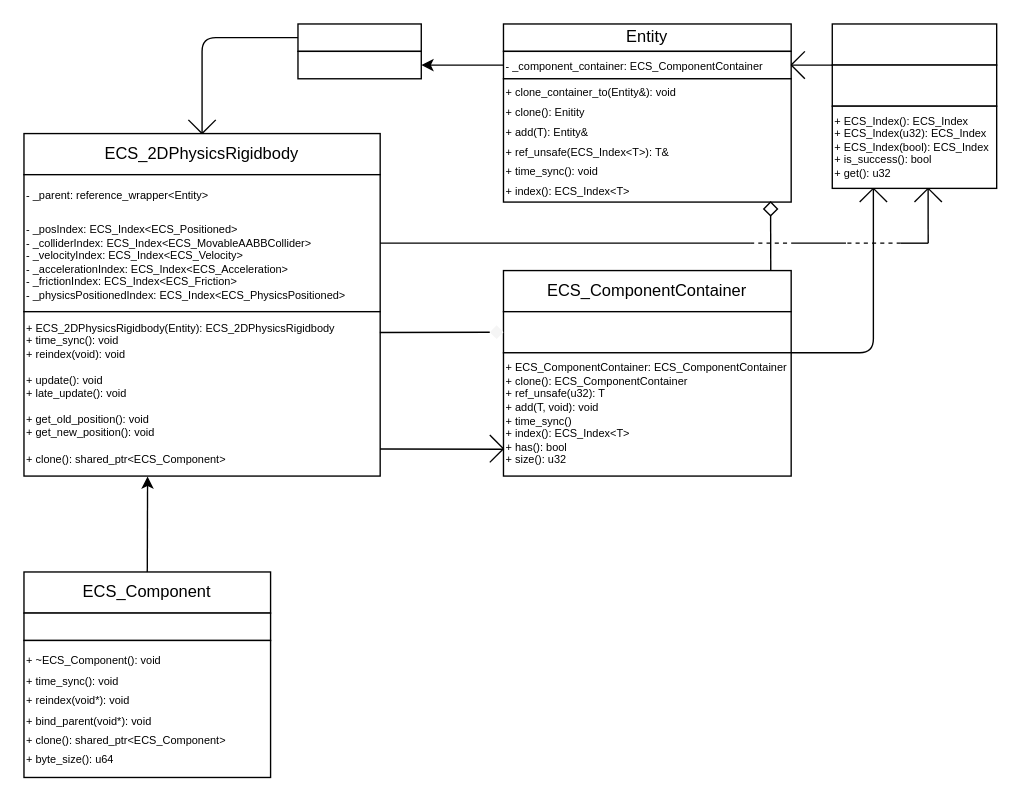
Image size: 1021x801. Some labels were removed from this diagram. Here are the shapes that lost their labels. From the top down, the box of each, then its label:
(297, 23, 421, 51): Player
(831, 23, 997, 65): ECS_Index<T>
(297, 50, 421, 79): + clone(): Player
(831, 64, 997, 106): - _index: u32 - _success: bool
(502, 310, 791, 353): - _components: vector<ECS_Component>
